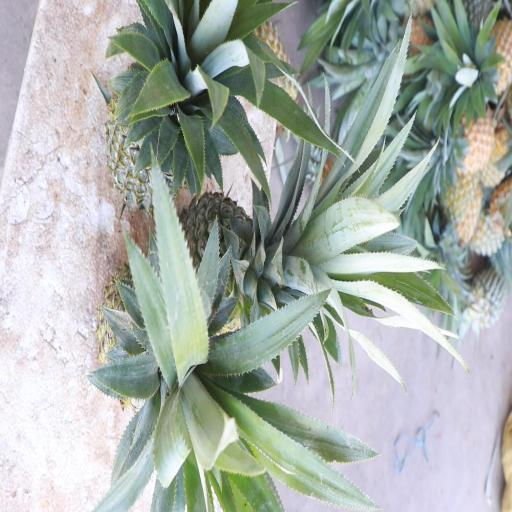Pineapple - v8 v1: (440, 101, 498, 181)
